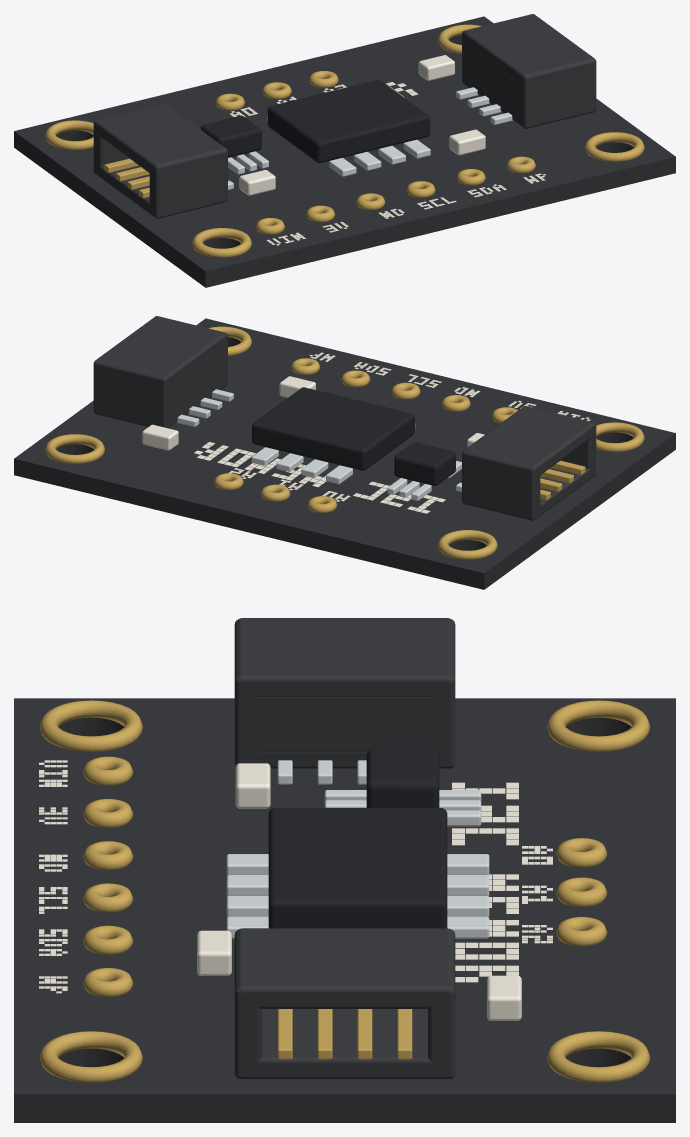
Rendered from components-16.glb.
3 views of the same model, one above another, from view 1: azimuth 30°, elevation 25°; view 2: azimuth 150°, elevation 25°; view 3: azimuth 270°, elevation 25° (orthographic). The views are drawn at different scales.
Parts seen in each view (by area): view 1: board, ports, chip, mounts, pins; view 2: board, ports, chip, mounts, pins; view 3: board, ports, chip, mounts, pins.
Part boxes in pixels (left/top/right/bottom): board: left=14, top=16, right=675, bottom=287; ports: left=93, top=14, right=596, bottom=218; chip: left=200, top=55, right=485, bottom=195; mounts: left=45, top=24, right=644, bottom=257; pins: left=215, top=71, right=535, bottom=234; board: left=14, top=318, right=675, bottom=589; ports: left=93, top=316, right=596, bottom=520; chip: left=142, top=376, right=484, bottom=500; mounts: left=45, top=326, right=644, bottom=559; pins: left=214, top=358, right=517, bottom=513; board: left=14, top=698, right=675, bottom=1122; ports: left=234, top=618, right=455, bottom=1078; chip: left=197, top=749, right=521, bottom=1020; mounts: left=39, top=700, right=650, bottom=1082; pins: left=83, top=756, right=607, bottom=996.
Size of the model in its own units: 1.94 by 0.2805 by 1.37.
